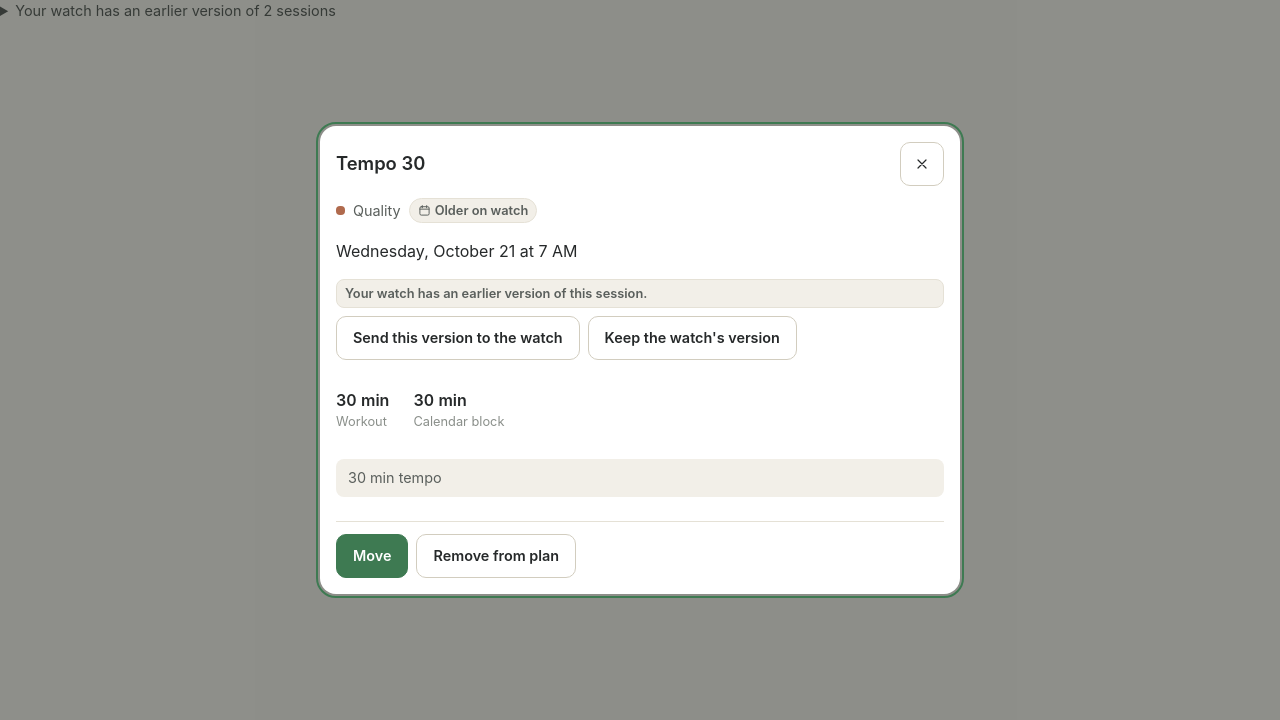
Scenario: the session's sheet › says it once, and offers to send this version — sent, it says so in place, the focus on it, the drain runs, the line is read again
What coordinates should you click on to do the following:
click the button "Send this version to the watch"
I would click on:
 (458, 338)
Its box is [336,316,580,360].
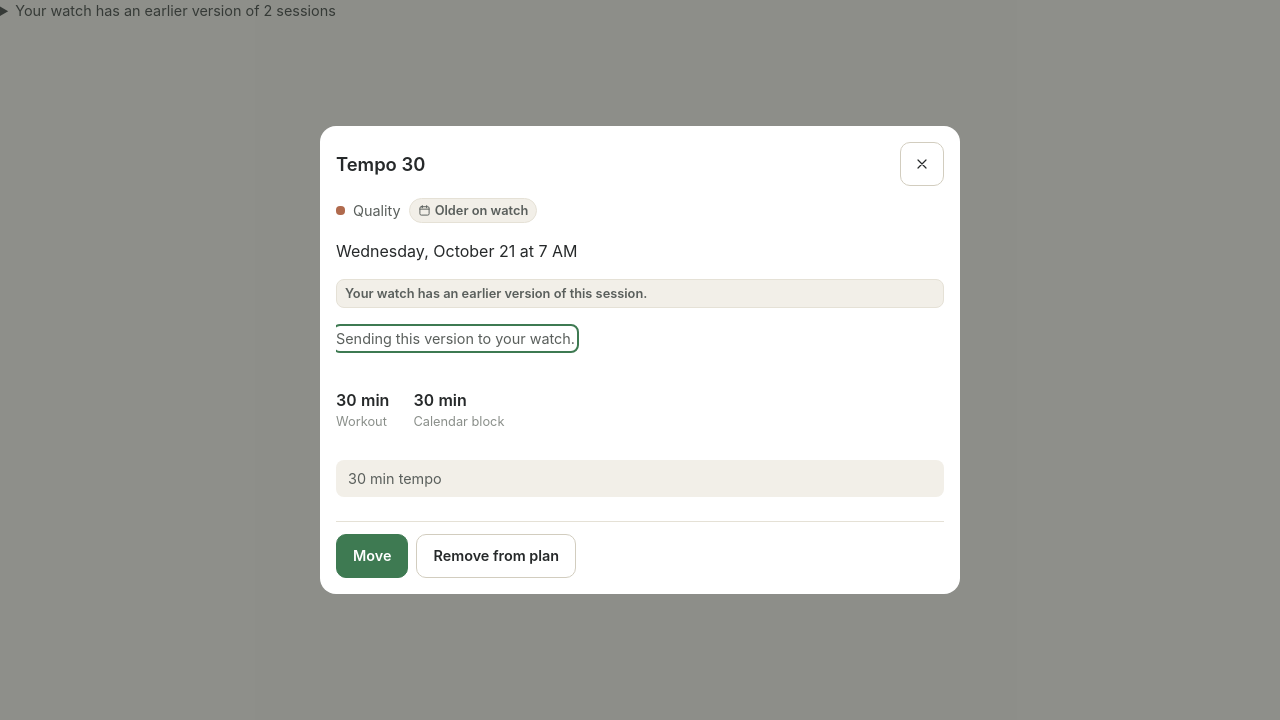
Expected: the message with class "watch-version-done" reads "Sending this version to your watch.", [336,330,575,347]
